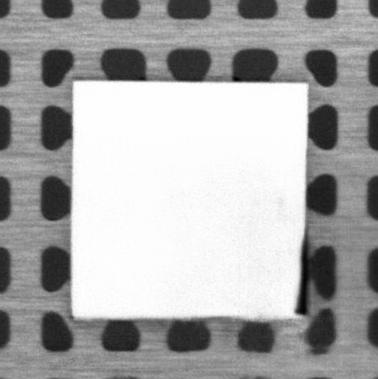DIE_BROKEN: (293, 239, 308, 317)
